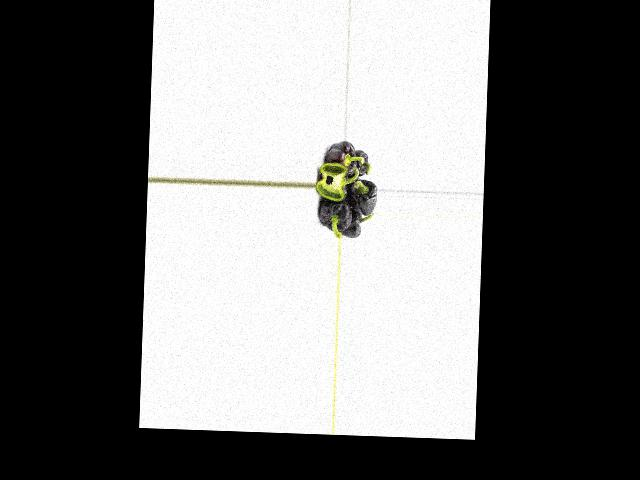bell_pepper: (326, 141, 357, 182)
